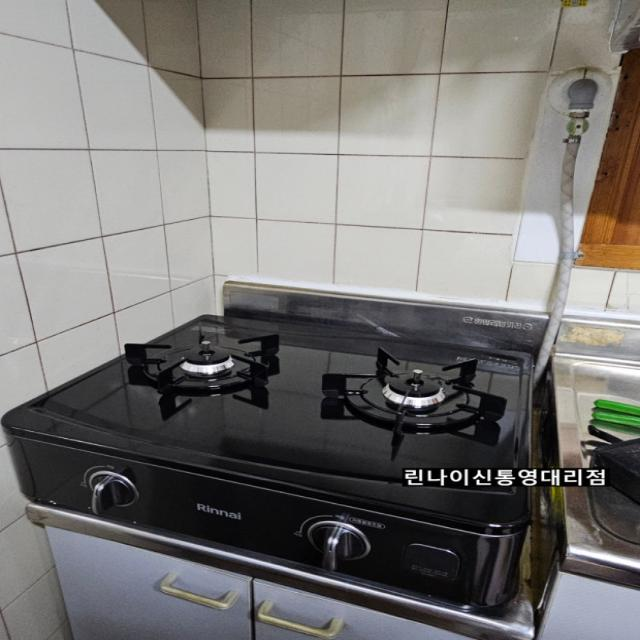knob_OFF: (303, 332, 545, 459), (118, 314, 298, 422)
